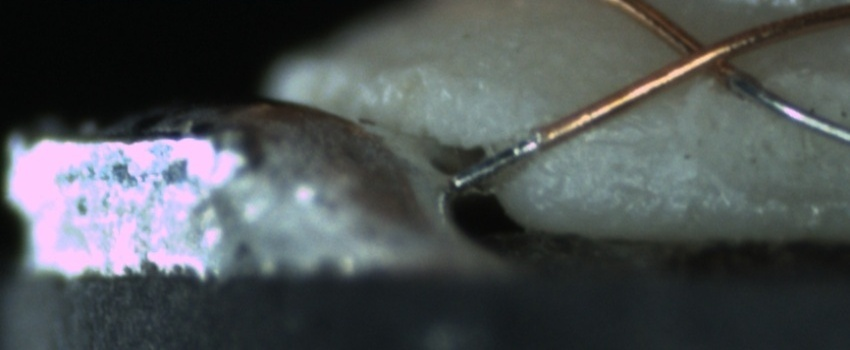CL: (653, 21, 757, 90)
DL: (551, 113, 671, 166)
TS: (447, 134, 539, 190)
